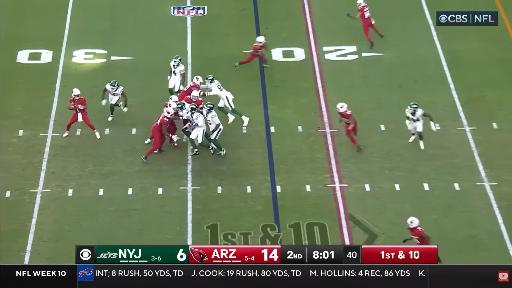Helmet: (407, 217, 419, 228), (163, 107, 174, 118), (204, 102, 215, 111), (337, 103, 347, 112), (193, 76, 202, 85), (173, 56, 181, 66), (191, 91, 199, 101), (72, 88, 80, 98), (110, 80, 118, 89), (206, 75, 215, 83), (256, 36, 265, 44), (177, 102, 186, 110), (408, 103, 418, 110), (357, 0, 366, 7), (168, 102, 177, 109), (190, 104, 197, 112), (170, 96, 178, 102)
Jersey: (208, 80, 230, 99), (178, 83, 200, 101), (408, 227, 429, 245), (203, 110, 221, 131), (358, 6, 374, 24), (190, 112, 206, 129), (70, 97, 86, 113), (406, 108, 424, 122), (170, 62, 185, 78), (153, 115, 170, 129), (178, 103, 191, 120), (106, 83, 123, 96), (184, 96, 202, 107), (338, 110, 353, 123), (252, 43, 265, 55), (164, 102, 172, 109)
Player: (206, 75, 249, 126), (187, 104, 225, 155), (63, 88, 100, 138), (142, 108, 174, 162), (406, 103, 436, 149), (355, 0, 383, 49), (337, 103, 362, 151), (235, 36, 269, 69), (102, 80, 127, 121), (203, 103, 223, 141), (403, 217, 430, 245), (164, 96, 179, 146), (178, 76, 207, 101), (168, 56, 185, 95), (178, 102, 193, 140), (183, 91, 202, 109), (177, 102, 190, 128)
